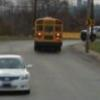buses: (32, 16, 64, 54)
